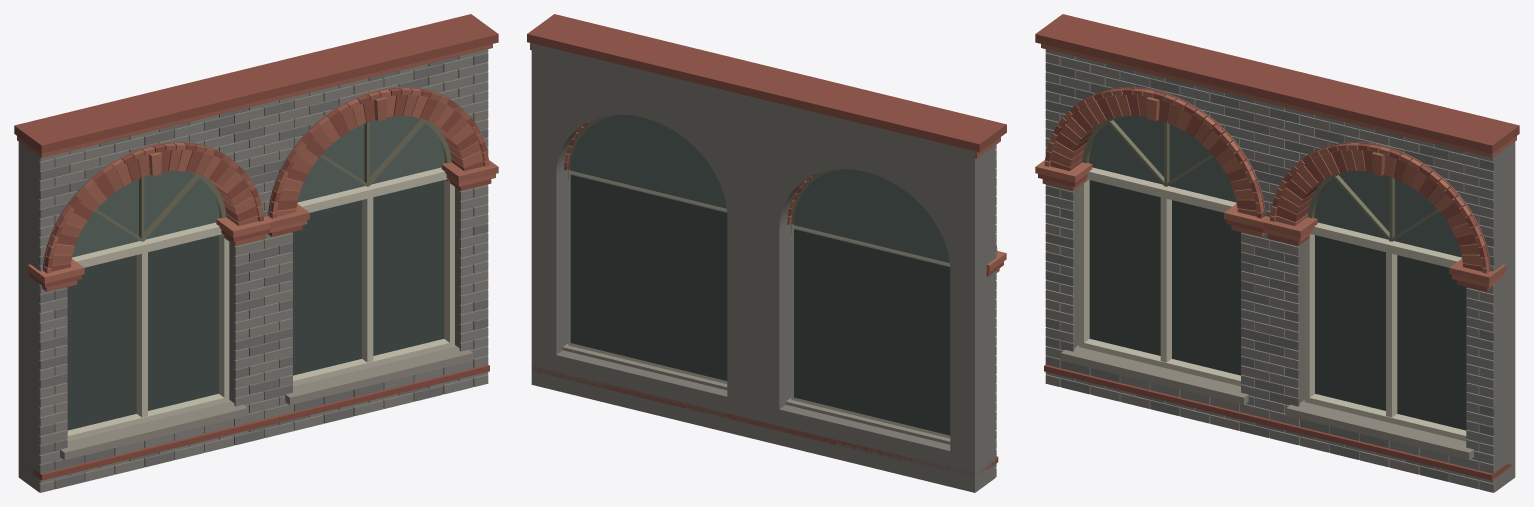
Rendered from hongkou-yangshupu-213-paired-fanlights-raw.glb.
The picture shows the model from 3 angles, left to right: view 1: azimuth 30°, elevation 25°; view 2: azimuth 150°, elevation 25°; view 3: azimuth 330°, elevation 25°; orthographic projection.
Parts seen in each view (by area): view 1: 杨树浦路213号门侧二层双券扇窗; view 2: 杨树浦路213号门侧二层双券扇窗; view 3: 杨树浦路213号门侧二层双券扇窗.
Boxes of the visible parts, x1=… form: 杨树浦路213号门侧二层双券扇窗: x1=14, y1=14, x2=498, y2=492; 杨树浦路213号门侧二层双券扇窗: x1=527, y1=14, x2=1006, y2=492; 杨树浦路213号门侧二层双券扇窗: x1=1035, y1=14, x2=1519, y2=492.
Size of the model in its own units: 3.29 by 2.43 by 0.359.
